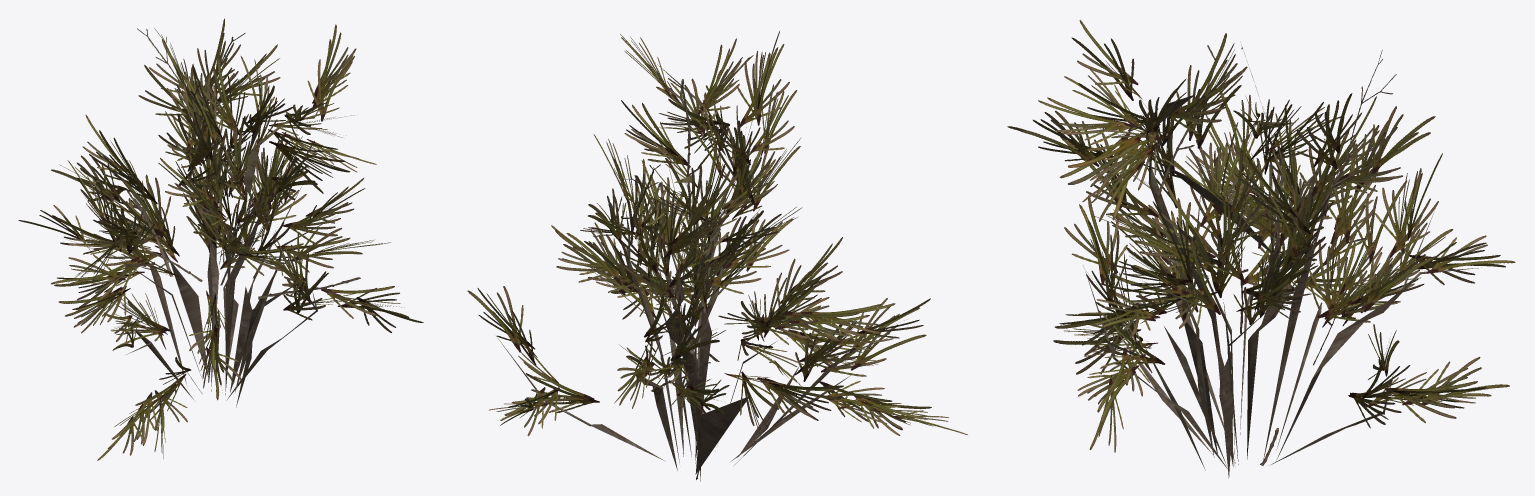
The model's file is bush_dry_b.glb.
3 views of the same model, side by side, from view 1: azimuth 30°, elevation 25°; view 2: azimuth 150°, elevation 25°; view 3: azimuth 270°, elevation 25° (orthographic). The views are drawn at different scales.
Visible parts, largest first — view 1: bush_dry_b; view 2: bush_dry_b; view 3: bush_dry_b.
Part boxes in pixels (x1,y1,x2,y2): bush_dry_b: (18, 18, 423, 460); bush_dry_b: (467, 31, 967, 481); bush_dry_b: (1007, 20, 1515, 478).
Size of the model in its own units: 0.4913 by 0.4905 by 0.506.
Materials: 2 (2 with a texture image).
